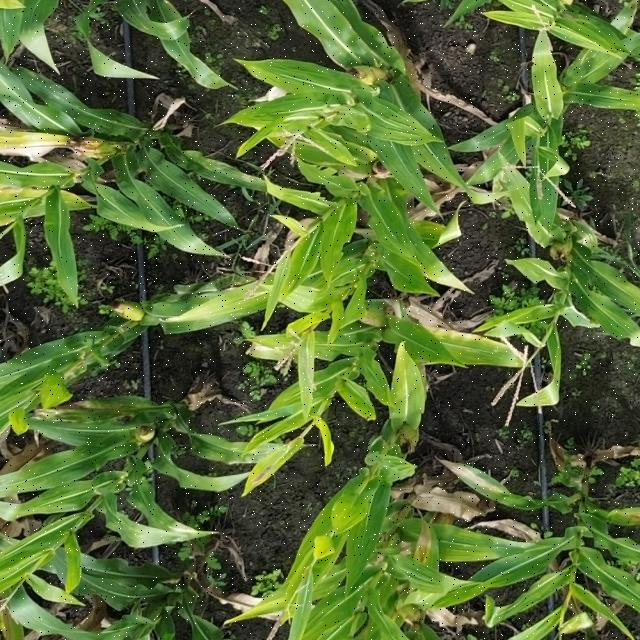gray-leaf-spot: (126, 497, 218, 553)
northern-leaf-blight: (411, 297, 520, 390), (27, 364, 144, 438), (441, 454, 539, 523)
southern-leaf-blight: (46, 70, 145, 143)
